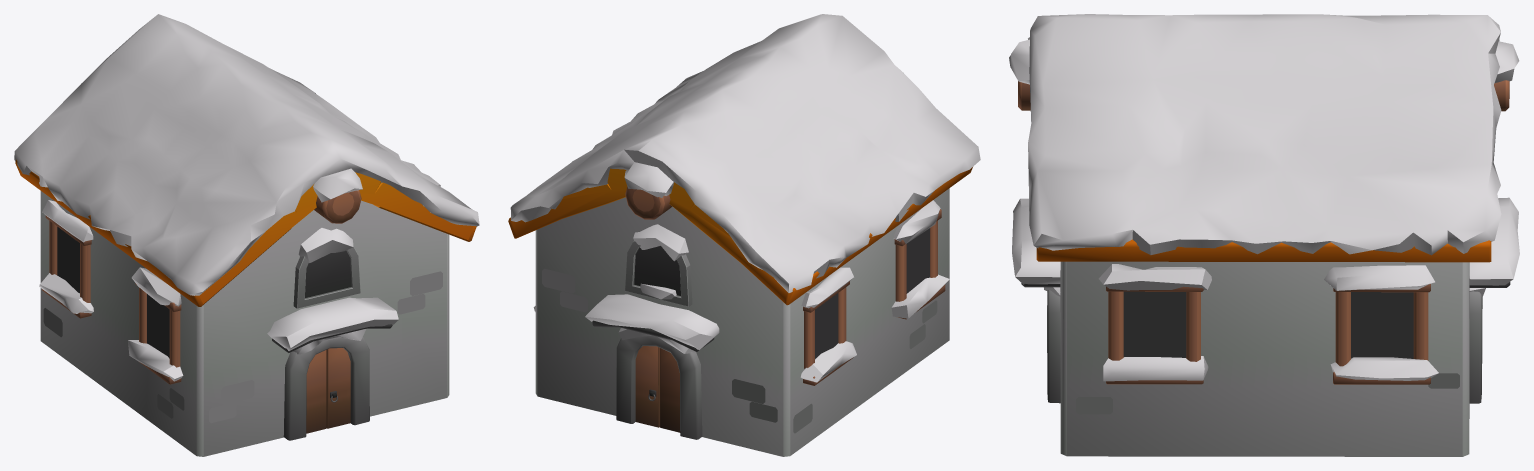
Rendered from HouseSnowy_2.fbx.
3 views of the same model, side by side, from view 1: azimuth 30°, elevation 25°; view 2: azimuth 150°, elevation 25°; view 3: azimuth 270°, elevation 25° (orthographic). The views are drawn at different scales.
Visible parts, largest first — view 1: HouseSnowy_2; view 2: HouseSnowy_2; view 3: HouseSnowy_2.
Part boxes in pixels (bbox=[...]): HouseSnowy_2: bbox=[14, 14, 479, 456]; HouseSnowy_2: bbox=[508, 14, 980, 456]; HouseSnowy_2: bbox=[1009, 14, 1519, 456].
Size of the model in its own units: 227 by 210 by 266.
